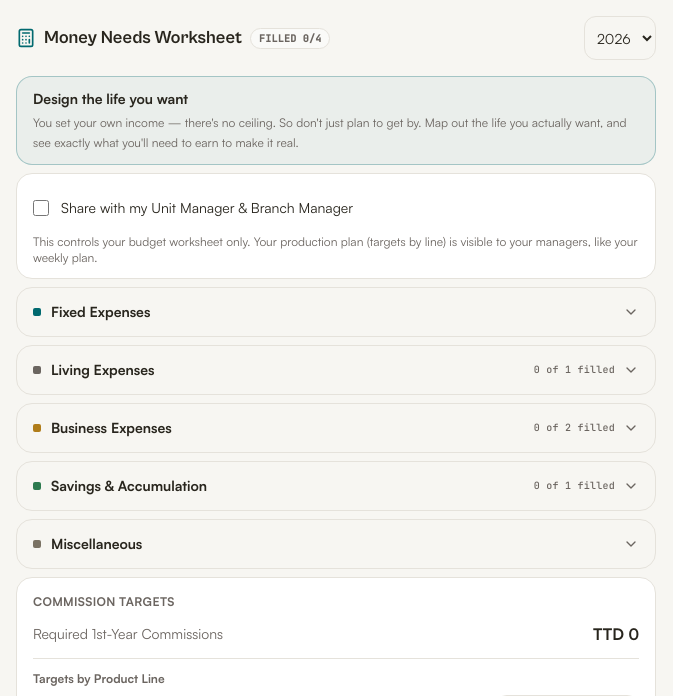
Test: MoneyNeedsPanel — floating calculators › long label renders its full text — no truncation
Expected: the heading "Money Needs Worksheet" is shown, top-left (44, 24), bottom-right (242, 52)
Click the button "Business Expenses 0 of 2 filled": (111, 428) top-left (17, 404), bottom-right (655, 452)
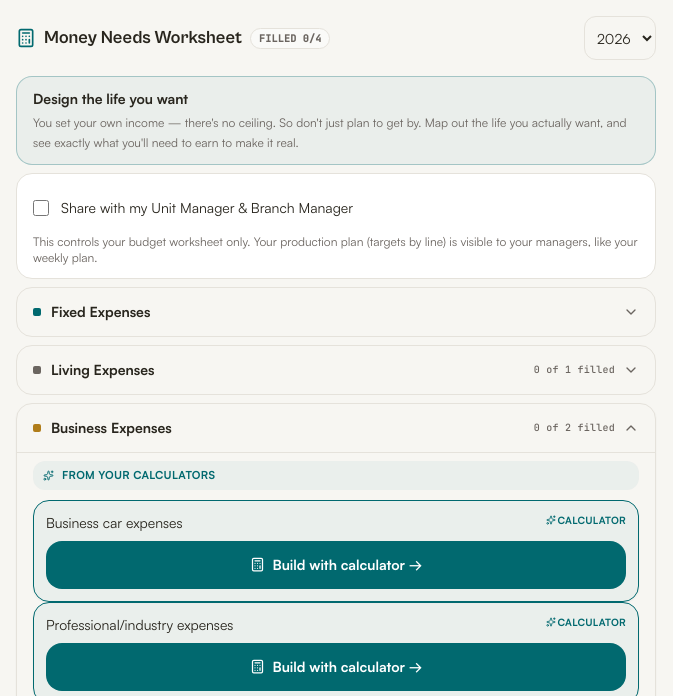
Expected: the text "Professional/industry expenses" is shown, top-left (46, 616), bottom-right (233, 632)
